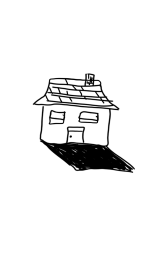chimney: (81, 71, 99, 90)
closed_window: (76, 109, 100, 126), (48, 109, 67, 126)
door: (64, 126, 86, 144)
roof: (29, 76, 123, 111)
shadow: (40, 138, 137, 178)
small_house: (2, 1, 161, 260)
wall: (38, 100, 113, 149)
